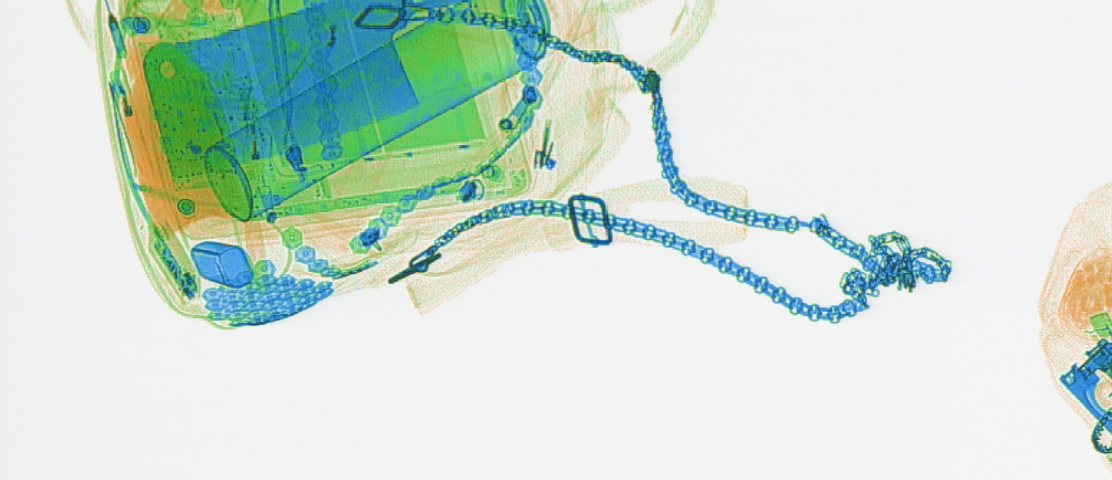knife: (167, 6, 454, 180)
lighter: (103, 64, 153, 181)
pressure: (196, 3, 556, 225)
